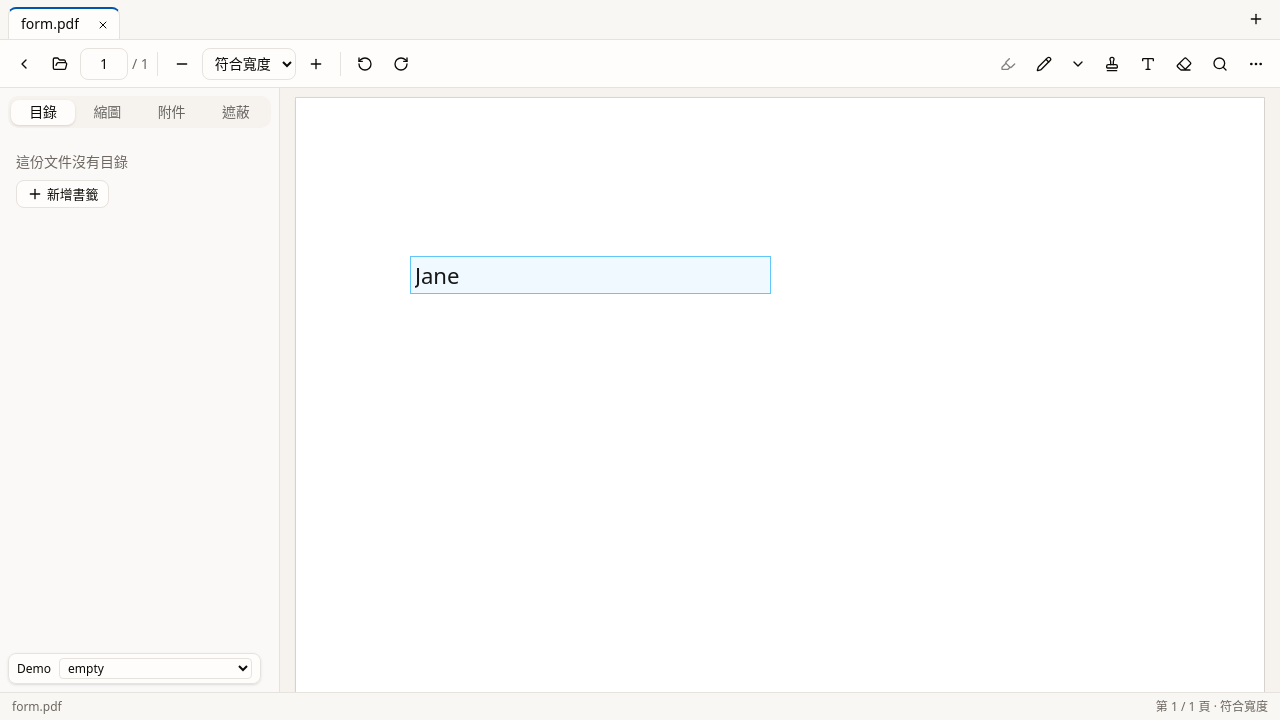
Test: closing a tab while a field is being typed in (B2-09) › asks when the tab is closed with the mouse, which leaves the box
Type "!" into the field named "Your name" at [590, 275], box left=410, top=256, right=770, bottom=294
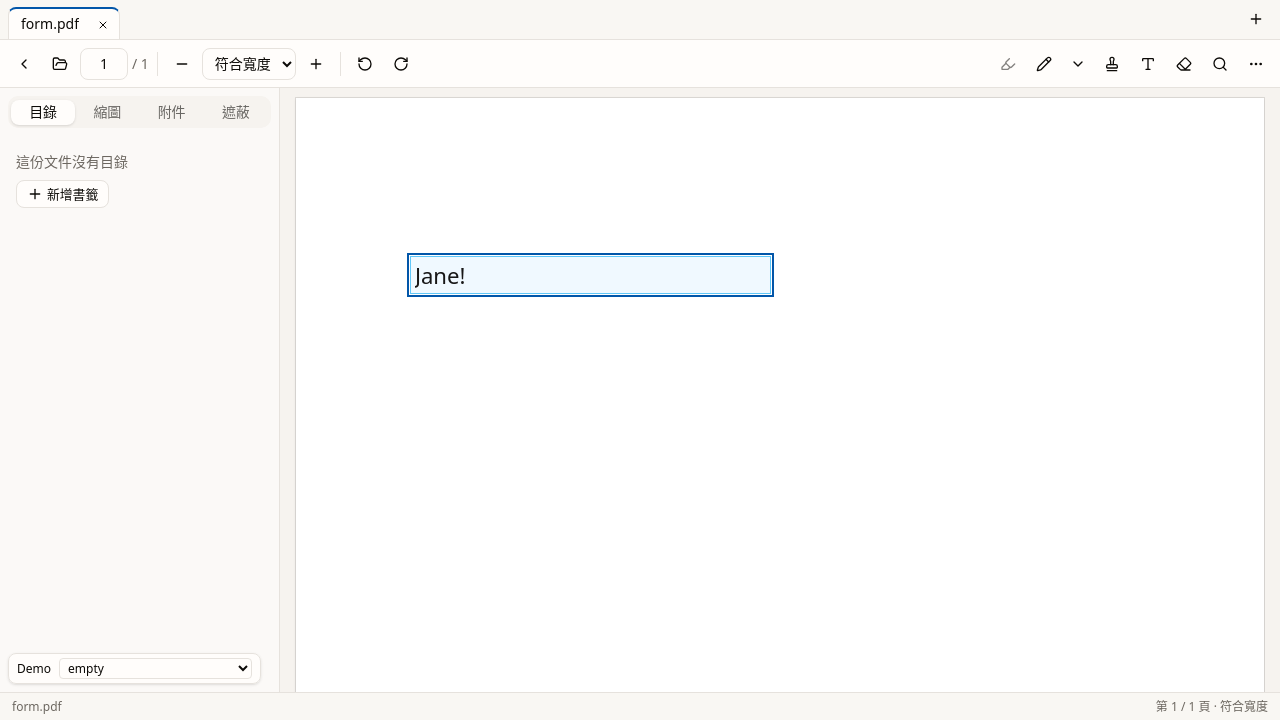
Click the button named "關閉「form.pdf」" at [103, 25], box left=91, top=13, right=115, bottom=37
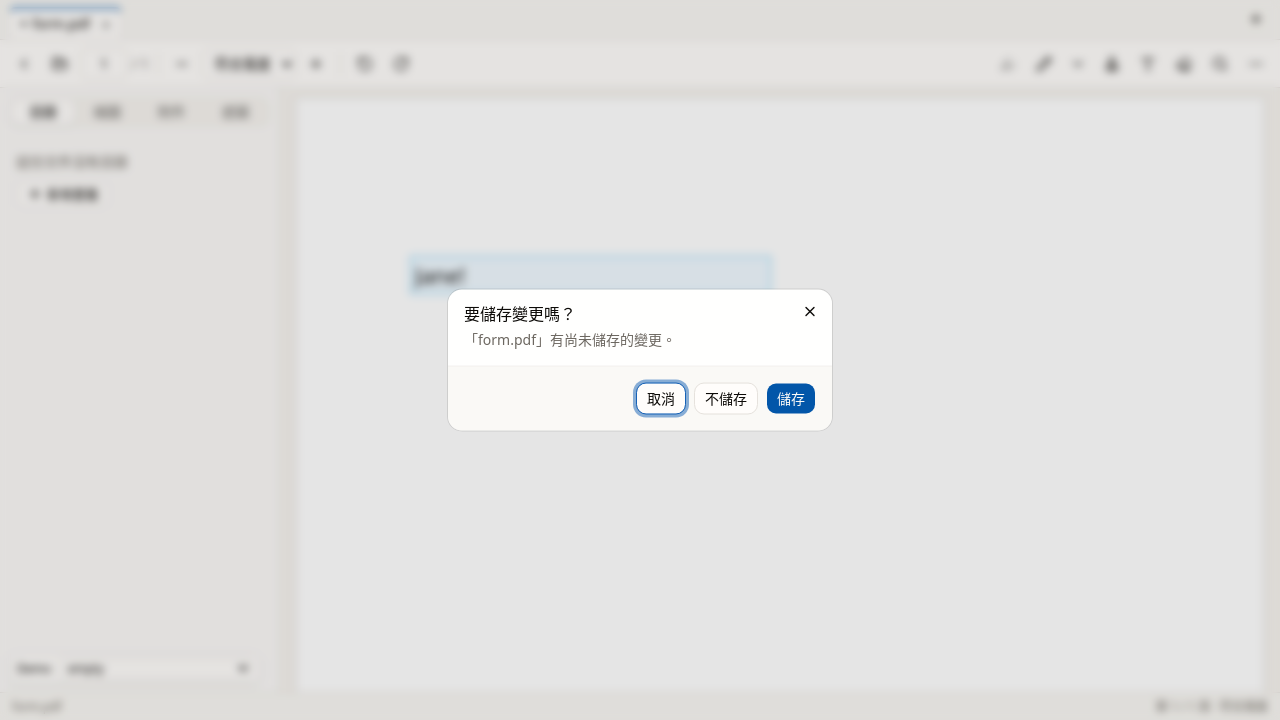
Expected: the dialog "要儲存變更嗎？" is shown, left=448, top=290, right=832, bottom=430
